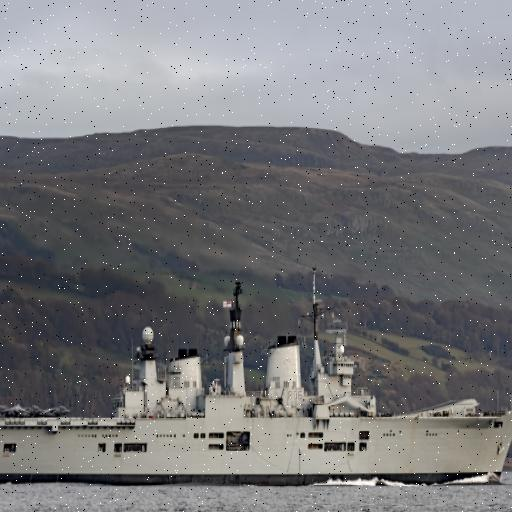Portanaves: (1, 257, 512, 492)
